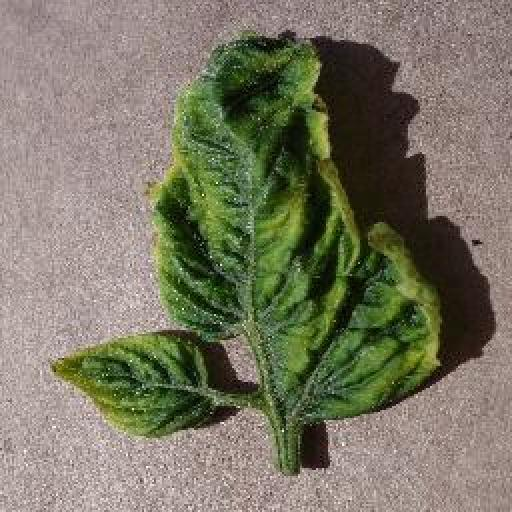Yellow Leaf Curl Virus: (146, 31, 449, 424), (50, 327, 219, 441)
